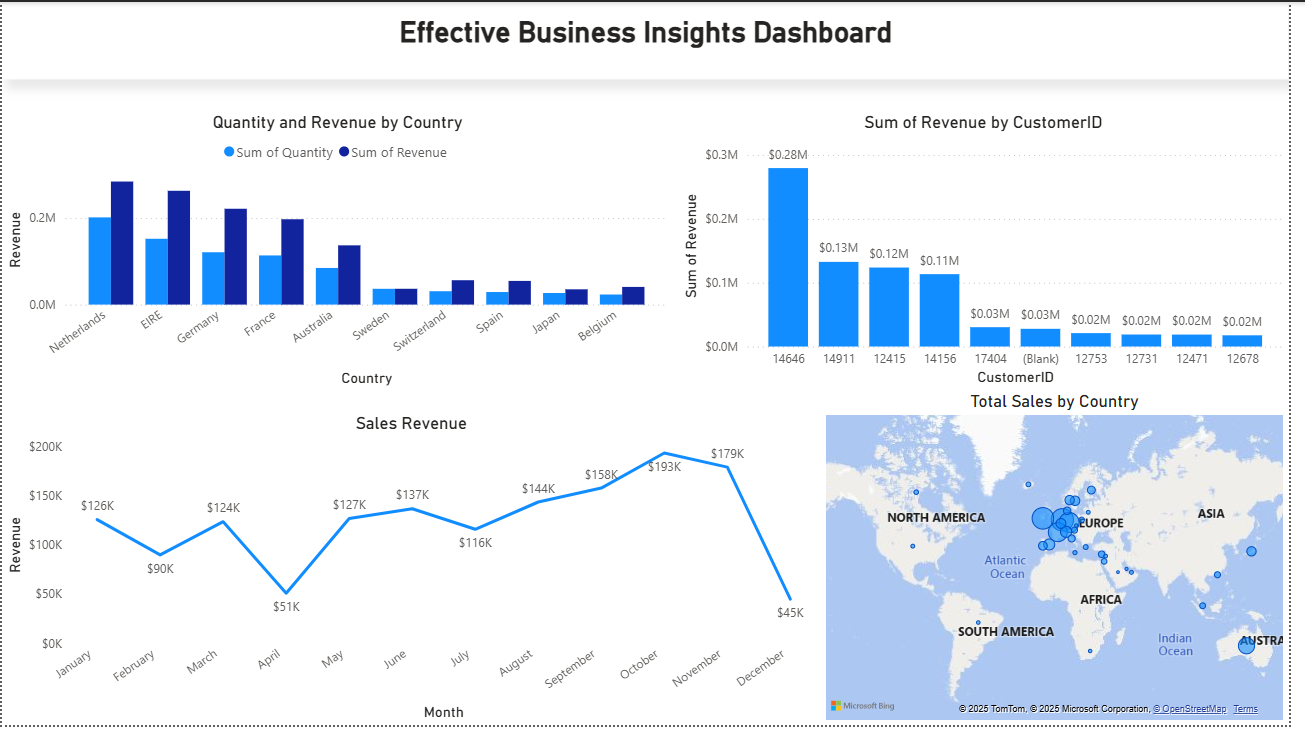

The dashboard page shown, as its layout file describes it:
{"tool":"powerbi","page":{"name":"Page 1","canvas":[1280,720],"ordinal":0},"visuals":[{"type":"map","title":"Total Sales by Country","fields":{"Category":["Online Retail.Country"],"Size":["Sum(Online Retail.Revenue)"]},"box":[814.8,386.9,465.2,333.4],"z":0},{"type":"lineChart","title":"Sales Revenue ","fields":{"Category":["Online Retail.InvoiceDate.Variation.Date Hierarchy.Month"],"Y":["Sum(Online Retail.Revenue)"]},"box":[0,409.3,814.8,311],"z":1},{"type":"clusteredColumnChart","title":" Quantity and Revenue by Country","fields":{"Y":["Sum(Online Retail.Quantity)","Sum(Online Retail.Revenue)"],"Category":["Online Retail.Country"]},"box":[0,109.5,668,277.4],"z":2},{"type":"clusteredColumnChart","fields":{"Y":["Sum(Online Retail.Revenue)"],"Category":["Online Retail.CustomerID"]},"box":[673,109.5,607.1,277.4],"z":3},{"type":"textbox","title":"Effective Business Insights Dashboard","box":[0,0,1279.7,76.5],"z":4}]}

Visuals, with their boxes in screenshot pixels (x1, y1, x2, y2), scaled from the page's 1280x720 canvas onto the 1305x735 screenshot:
"Total Sales by Country" map: [left=831, top=395, right=1304, bottom=734]
"Sales Revenue " lineChart: [left=0, top=418, right=831, bottom=734]
" Quantity and Revenue by Country" clusteredColumnChart: [left=0, top=112, right=681, bottom=395]
clusteredColumnChart - Sum(Online Retail.Revenue) x Online Retail.CustomerID: [left=686, top=112, right=1304, bottom=395]
"Effective Business Insights Dashboard" textbox: [left=0, top=0, right=1304, bottom=78]
